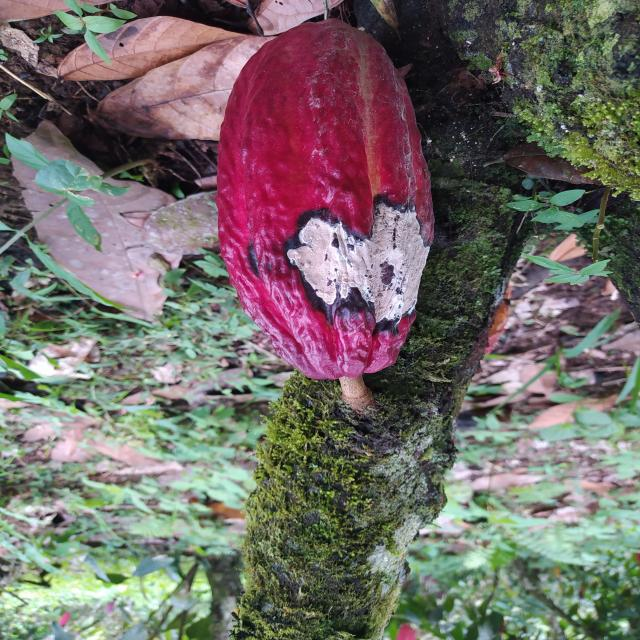Sana: (212, 16, 437, 379)
